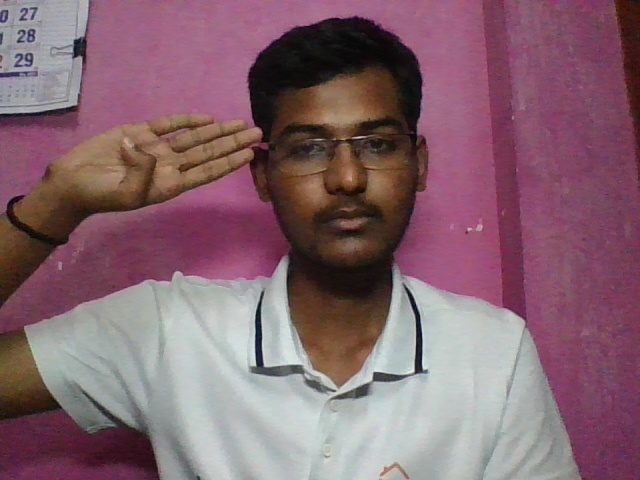Hello: (36, 95, 279, 229)
